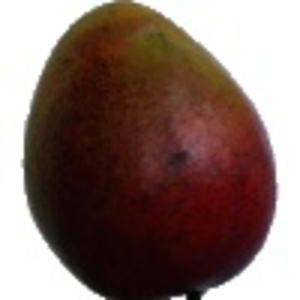manga: (23, 1, 279, 300)
